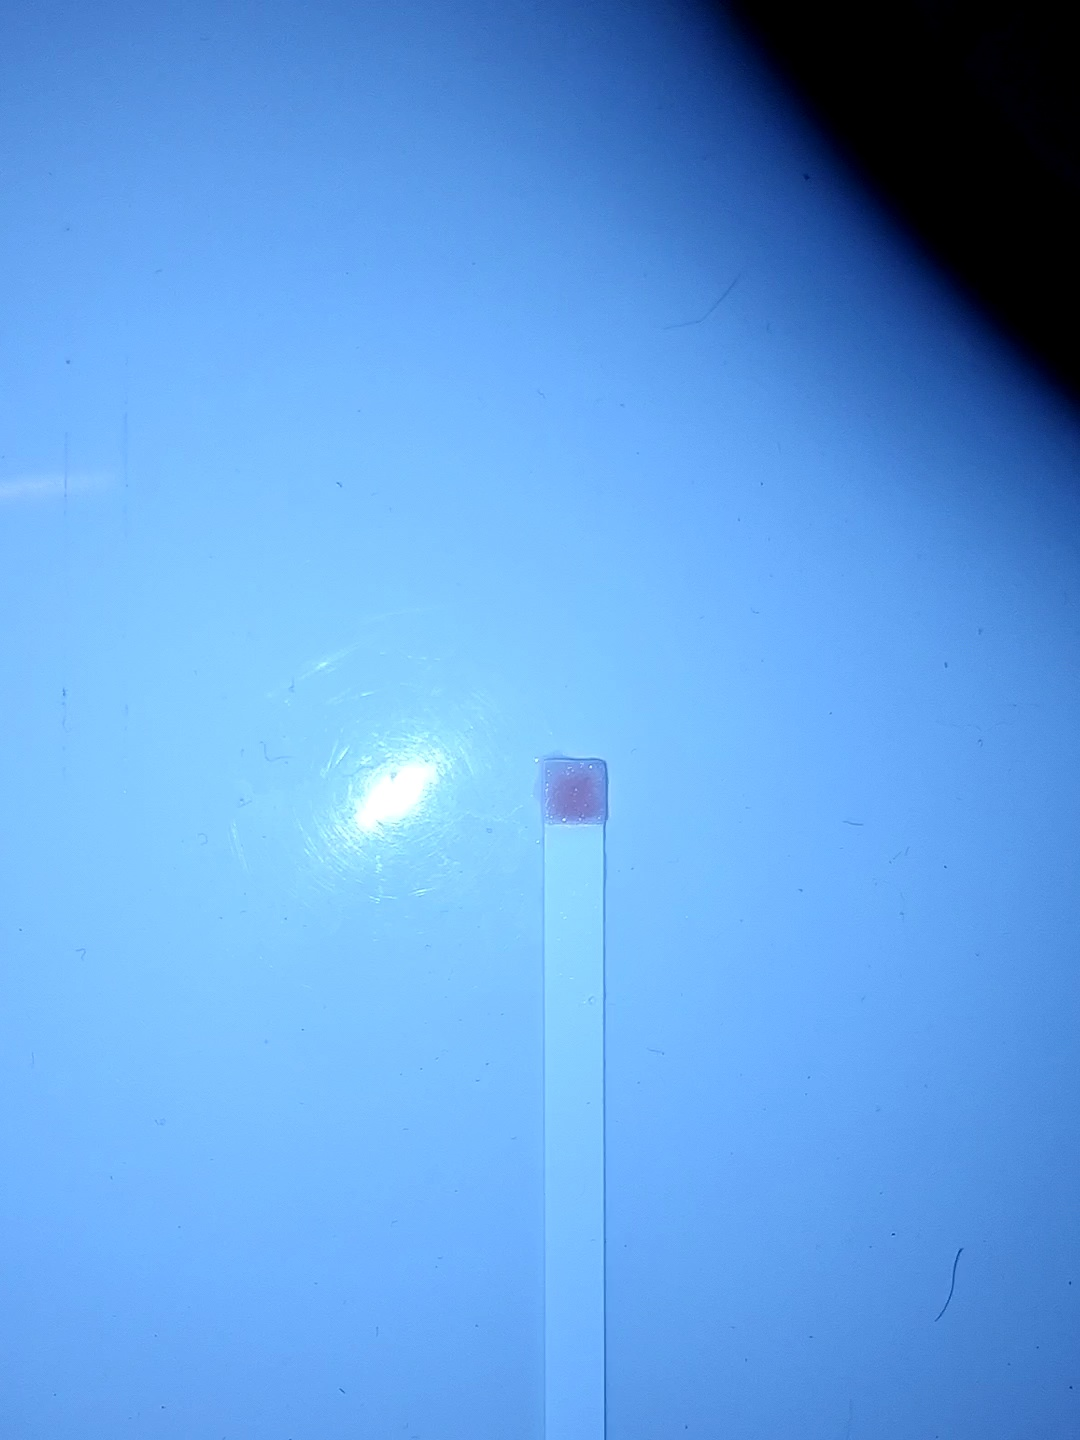keto-tip: (539, 753, 615, 827)
